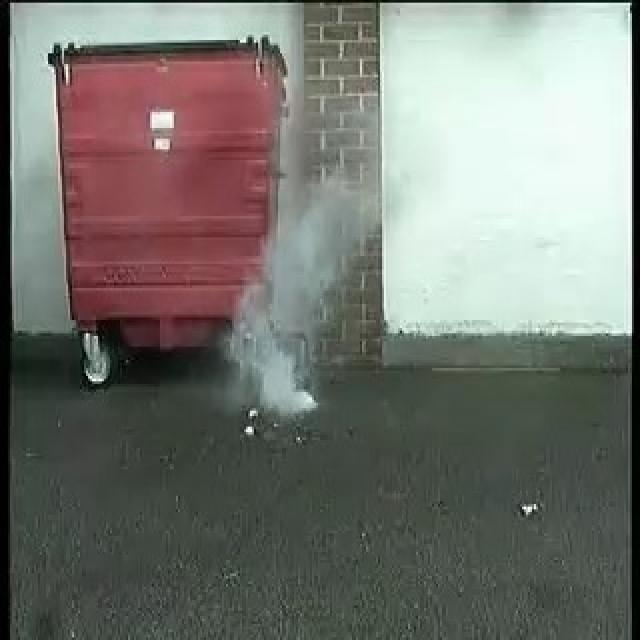smoke: (229, 179, 368, 423)
